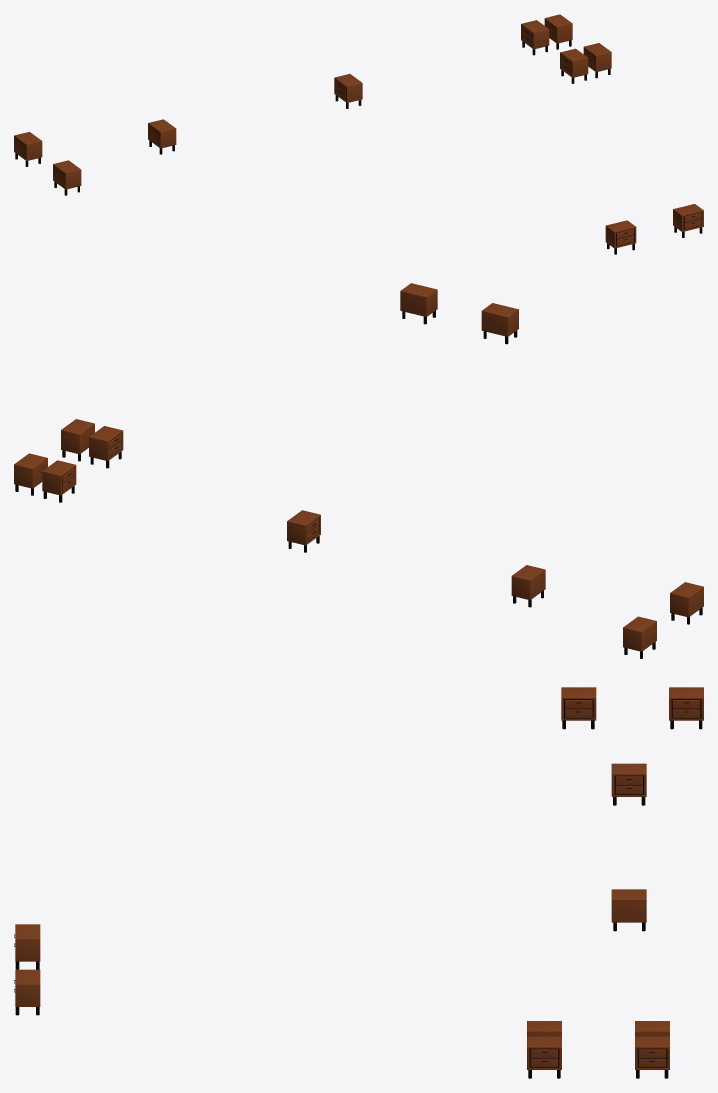
File: bedside_table.fbx
3 renders of one model, top to bottom at view 1: azimuth 30°, elevation 25°; view 2: azimuth 150°, elevation 25°; view 3: azimuth 270°, elevation 25°, orthographic. The views are drawn at different scales.
Parts seen in each view (by area): view 1: bedside_table.008, bedside_table.009, bedside_table.003, bedside_table.004, bedside_table.007, bedside_table.006, bedside_table.005, bedside_table.002, bedside_table.001, bedside_table; view 2: bedside_table.008, bedside_table.009, bedside_table.002, bedside_table.003, bedside_table.005, bedside_table.006, bedside_table.004, bedside_table.007, bedside_table.001, bedside_table; view 3: bedside_table.005, bedside_table.006, bedside_table.004, bedside_table.001, bedside_table, bedside_table.007, bedside_table.009, bedside_table.008.
Boxes of the visible parts, x1,y1,x2,y2 form: bedside_table.008: (605,220,636,254); bedside_table.009: (673,204,703,237); bedside_table.003: (521,20,549,55); bedside_table.004: (334,74,362,108); bedside_table.007: (14,132,42,166); bedside_table.006: (53,160,81,195); bedside_table.005: (148,119,176,154); bedside_table.002: (560,48,588,83); bedside_table.001: (544,14,572,49); bedside_table: (583,43,611,78); bedside_table.008: (481,303,518,344); bedside_table.009: (400,283,437,324); bedside_table.002: (89,426,123,468); bedside_table.003: (42,460,76,502); bedside_table.005: (511,565,545,607); bedside_table.006: (670,582,703,624); bedside_table.004: (287,510,320,552); bedside_table.007: (623,616,656,658); bedside_table.001: (14,453,47,495); bedside_table: (61,419,94,461); bedside_table.005: (611,763,646,805); bedside_table.006: (561,687,596,729); bedside_table.004: (611,889,646,931); bedside_table.001: (635,1036,669,1078); bedside_table: (527,1036,561,1078); bedside_table.007: (669,687,703,729); bedside_table.009: (14,969,40,1015); bedside_table.008: (14,924,40,969).
Bounding box in the file's own units: 8015 × 328 × 6483.
